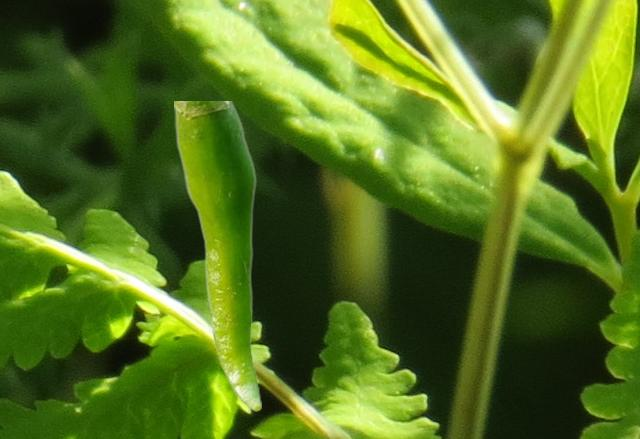green_chili: (174, 101, 260, 410)
